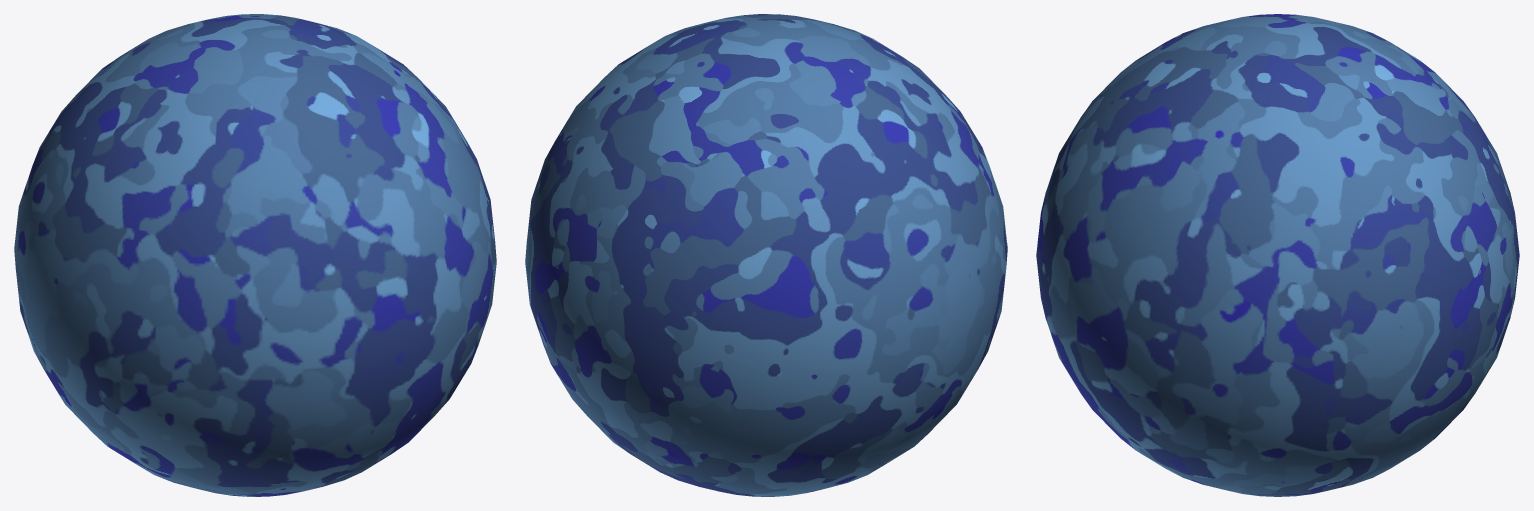
Rendered from playerBullet.obj.
3 renders of one model, left to right at view 1: azimuth 30°, elevation 25°; view 2: azimuth 150°, elevation 25°; view 3: azimuth 270°, elevation 25°, orthographic.
Visible parts, largest first — view 1: 球; view 2: 球; view 3: 球.
Part boxes in pixels (left/top/right/bottom): 球: left=14, top=14, right=496, bottom=496; 球: left=525, top=14, right=1007, bottom=496; 球: left=1036, top=14, right=1519, bottom=496.
Size of the model in its own units: 1.89 by 1.89 by 1.89.
Materials: 3 (3 with a texture image).
